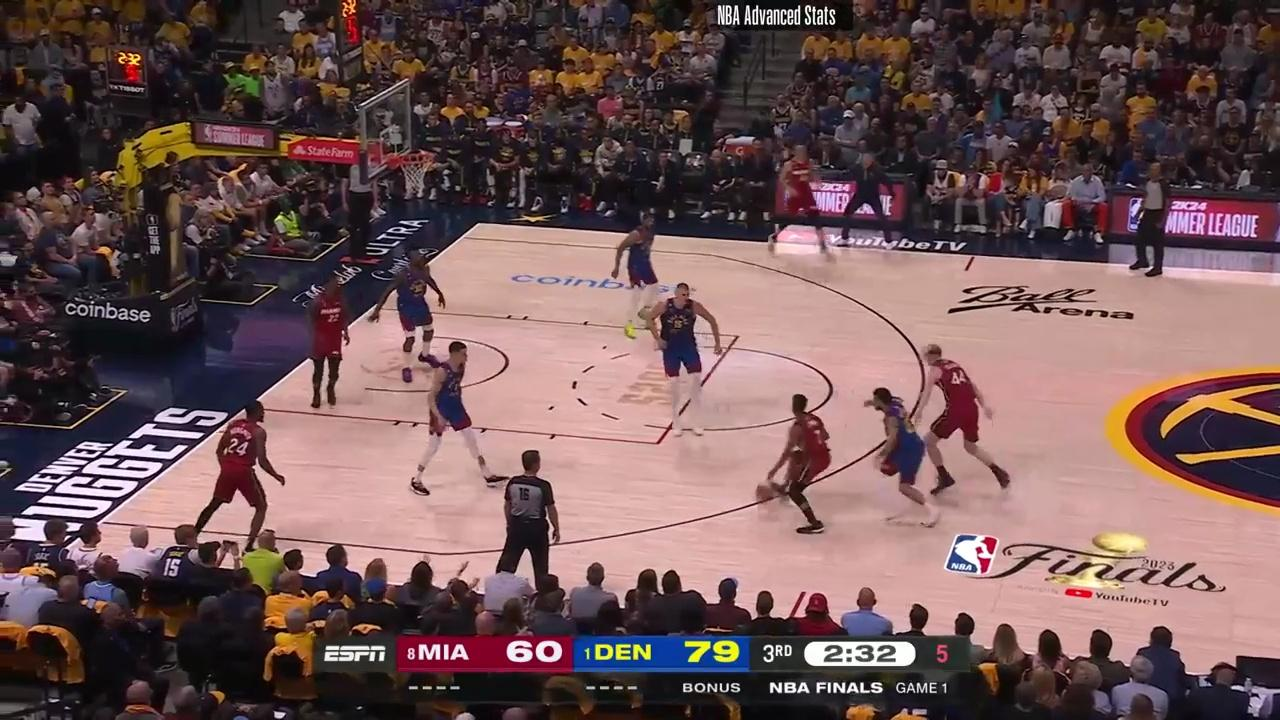Backboard: (361, 81, 409, 189)
Ball: (756, 483, 776, 502)
Basket: (400, 154, 434, 197)
Person: (199, 399, 290, 555), (919, 343, 1008, 498), (411, 335, 495, 492), (868, 381, 940, 524), (769, 391, 838, 537), (649, 281, 718, 427), (297, 266, 360, 411), (384, 245, 449, 381), (770, 140, 831, 255), (613, 208, 661, 305)
Referee: (493, 451, 568, 589), (1130, 162, 1179, 281), (345, 172, 384, 266)
Shot Clock: (103, 46, 151, 114), (337, 0, 369, 77)
